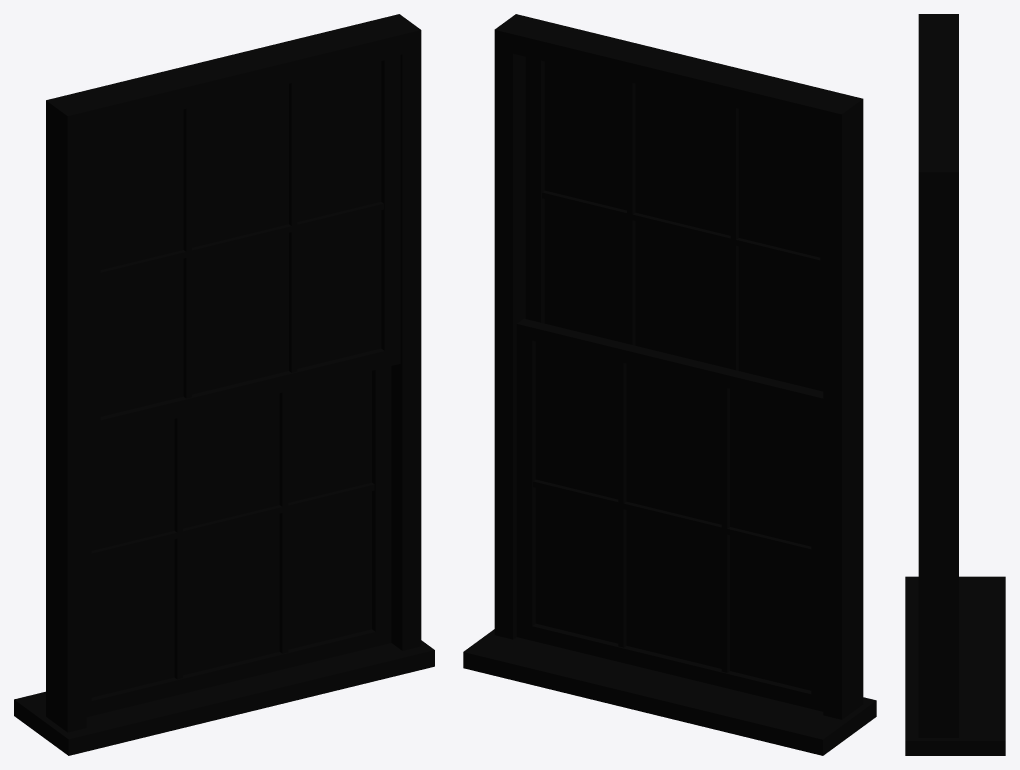
Rendered from SM_window_tall.fbx.
The picture shows the model from 3 angles, left to right: view 1: azimuth 30°, elevation 25°; view 2: azimuth 150°, elevation 25°; view 3: azimuth 270°, elevation 25°; orthographic projection. The views are drawn at different scales.
Visible parts, largest first — view 1: window_tall, window_tall_lower; view 2: window_tall, window_tall_lower; view 3: window_tall.
Part boxes in pixels (x1,y1,x2,y2): window_tall: (14,14,434,755); window_tall_lower: (86,366,391,716); window_tall: (463,14,876,755); window_tall_lower: (516,318,823,711); window_tall: (905,14,1005,755).
Bounding box in the file's own units: 1.16 × 1.91 × 0.3.
